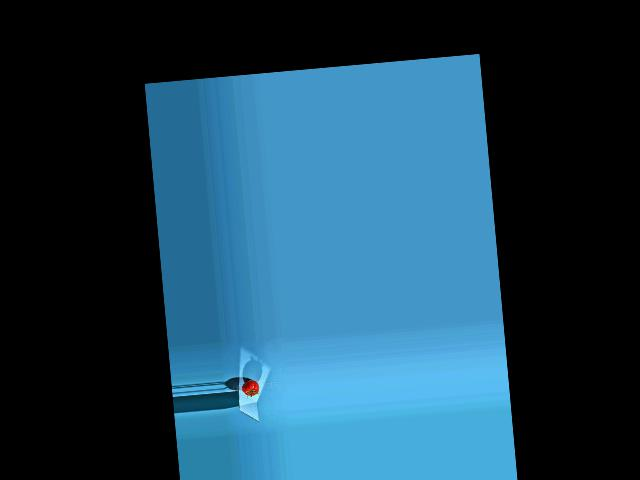tomato: (240, 379, 259, 396)
